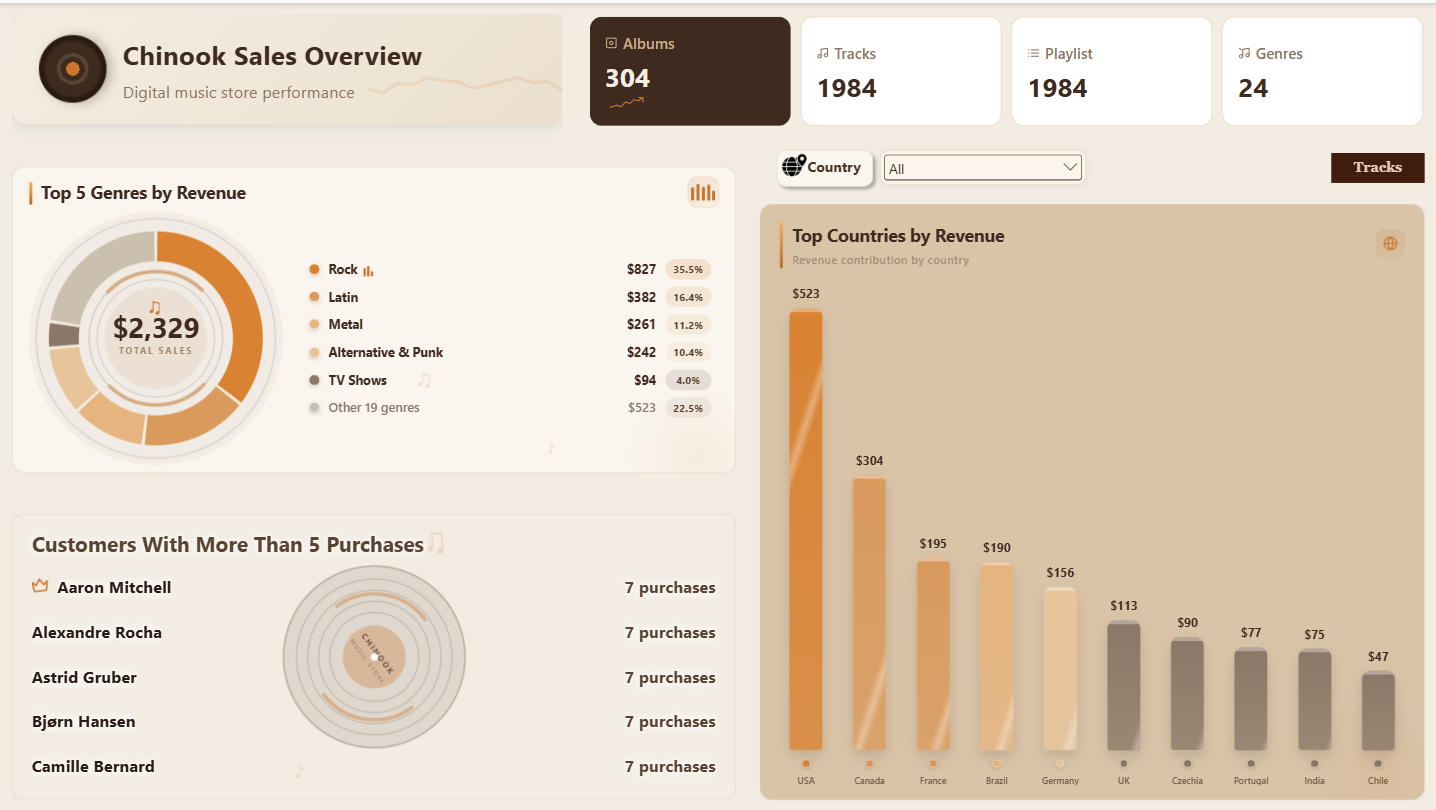

What the dashboard file says about the page in this screenshot:
{"tool":"powerbi","page":{"name":"Iutones","canvas":[1920,1080],"ordinal":2},"visuals":[{"type":"htmlContent443BE3AD55E043BF878BED274D3A6855","fields":{"content":["Avg_CLV__2.KPI_customer"]},"box":[767.3,0,1152.8,186.4],"z":0},{"type":"shape","box":[1027.9,186.4,146.6,67],"z":0,"group":"g1"},{"type":"textbox","box":[1078.6,204.5,77.8,52.5],"z":1000,"group":"g1"},{"type":"htmlContent443BE3AD55E043BF878BED274D3A6855","fields":{"content":["Avg_CLV__2.TopCountriesHTML"]},"box":[998.9,253.4,921.1,827],"z":1000},{"type":"htmlContent443BE3AD55E043BF878BED274D3A6855","fields":{"content":["_measure.HeaderHTMLx"]},"box":[0,0,767.3,197.3],"z":2000},{"type":"image","box":[1040.6,190,38,52.5],"z":2000,"group":"g1"},{"type":"htmlContent443BE3AD55E043BF878BED274D3A6855","fields":{"content":["_measure.Top10GenresHTML"]},"box":[0,204.5,998.9,439.7],"z":3000},{"type":"htmlContent443BE3AD55E043BF878BED274D3A6855","fields":{"content":["Avg_CLV__2.CustomersMoreThan5PurchasesHTML"]},"box":[0,667.8,998.9,412.6],"z":4000},{"type":"actionButton","box":[1778.9,200.9,124.9,39.8],"z":5000},{"type":"group","id":"g1","title":"Group 2","box":[1027.9,186.4,146.6,70.6],"z":6000},{"type":"slicer","fields":{"Values":["chinook customer.Country"]},"box":[1176.3,197.3,275.1,45.2],"z":7000}]}

Visuals, with their boxes in screenshot pixels (x1, y1, x2, y2), scaled from the page's 1920x1080 canvas onto the 1436x810 screenshot:
htmlContent443BE3AD55E043BF878BED274D3A6855 - Avg_CLV__2.KPI_customer: {"left": 574, "top": 0, "right": 1435, "bottom": 140}
shape: {"left": 769, "top": 140, "right": 878, "bottom": 190}
textbox: {"left": 807, "top": 153, "right": 865, "bottom": 193}
htmlContent443BE3AD55E043BF878BED274D3A6855 - Avg_CLV__2.TopCountriesHTML: {"left": 747, "top": 190, "right": 1435, "bottom": 809}
htmlContent443BE3AD55E043BF878BED274D3A6855 - _measure.HeaderHTMLx: {"left": 0, "top": 0, "right": 574, "bottom": 148}
image: {"left": 778, "top": 142, "right": 807, "bottom": 182}
htmlContent443BE3AD55E043BF878BED274D3A6855 - _measure.Top10GenresHTML: {"left": 0, "top": 153, "right": 747, "bottom": 483}
htmlContent443BE3AD55E043BF878BED274D3A6855 - Avg_CLV__2.CustomersMoreThan5PurchasesHTML: {"left": 0, "top": 501, "right": 747, "bottom": 809}
actionButton: {"left": 1330, "top": 151, "right": 1424, "bottom": 181}
"Group 2" group: {"left": 769, "top": 140, "right": 878, "bottom": 193}
slicer - chinook customer.Country: {"left": 880, "top": 148, "right": 1086, "bottom": 182}
